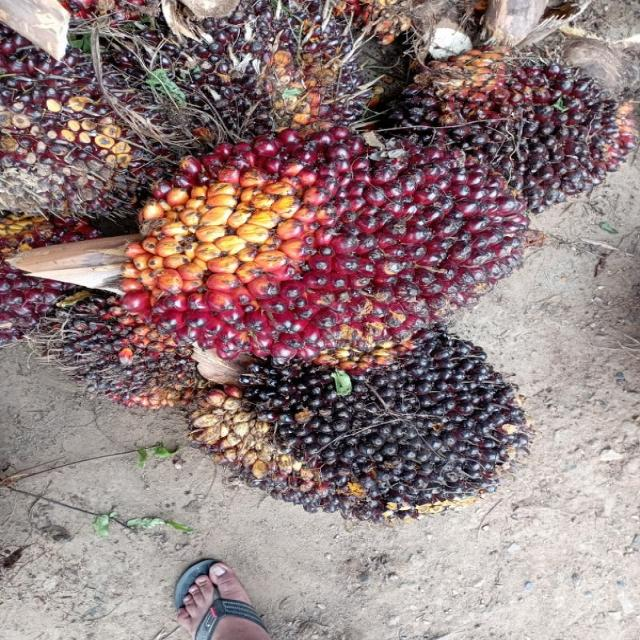fraksi 00: (160, 279, 574, 547), (372, 23, 637, 232), (136, 0, 430, 185)
fraksi 3: (61, 68, 570, 416)
